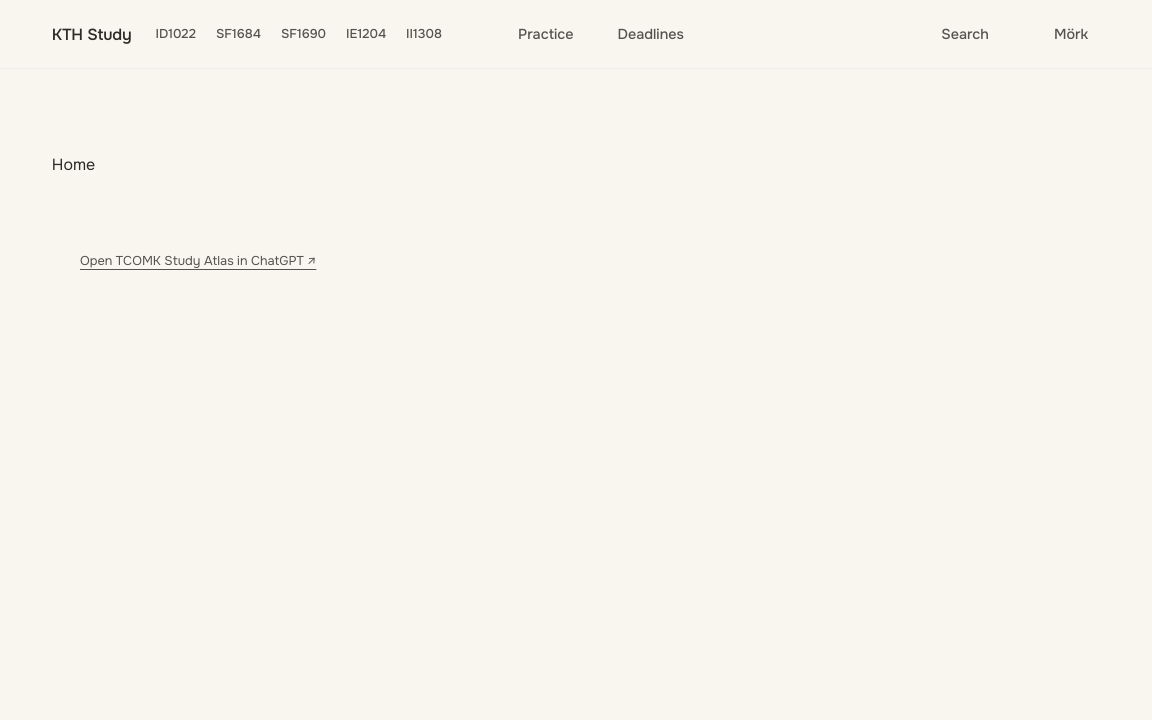
App › makes each live suggestion a direct link with quiet text metadata
This screenshot has width=1152, height=720.
Click the button "Search" at [953, 34], box x1=905 y1=12 x2=1001 y2=56
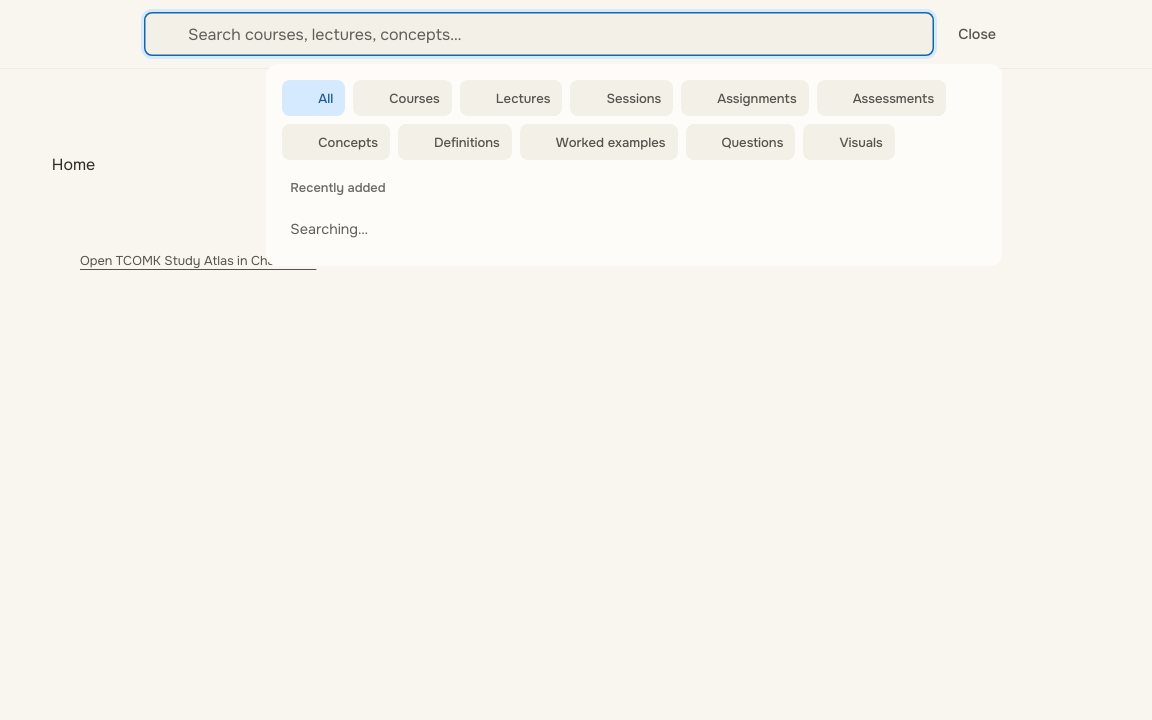
Type "absolute" into the search field named "Search all courses" at [539, 34], box x1=144 y1=12 x2=934 y2=56
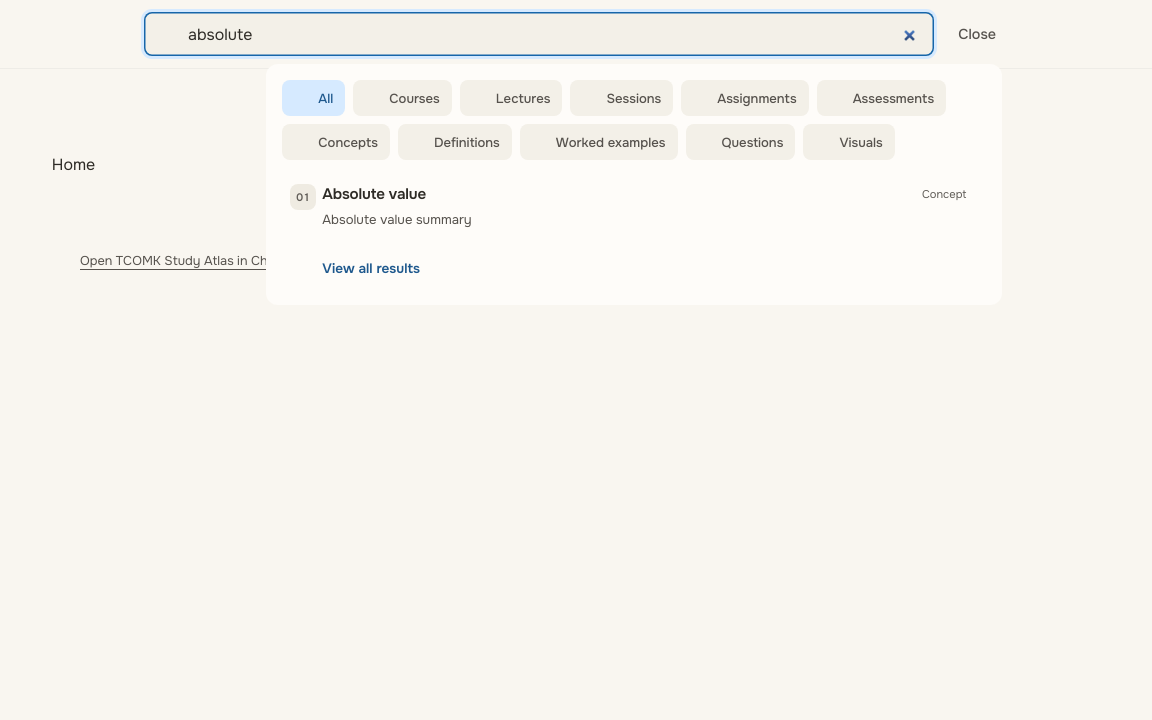
Expected: the text with class "suggestion-kind" reads "Concept", x1=922 y1=187 x2=966 y2=201
